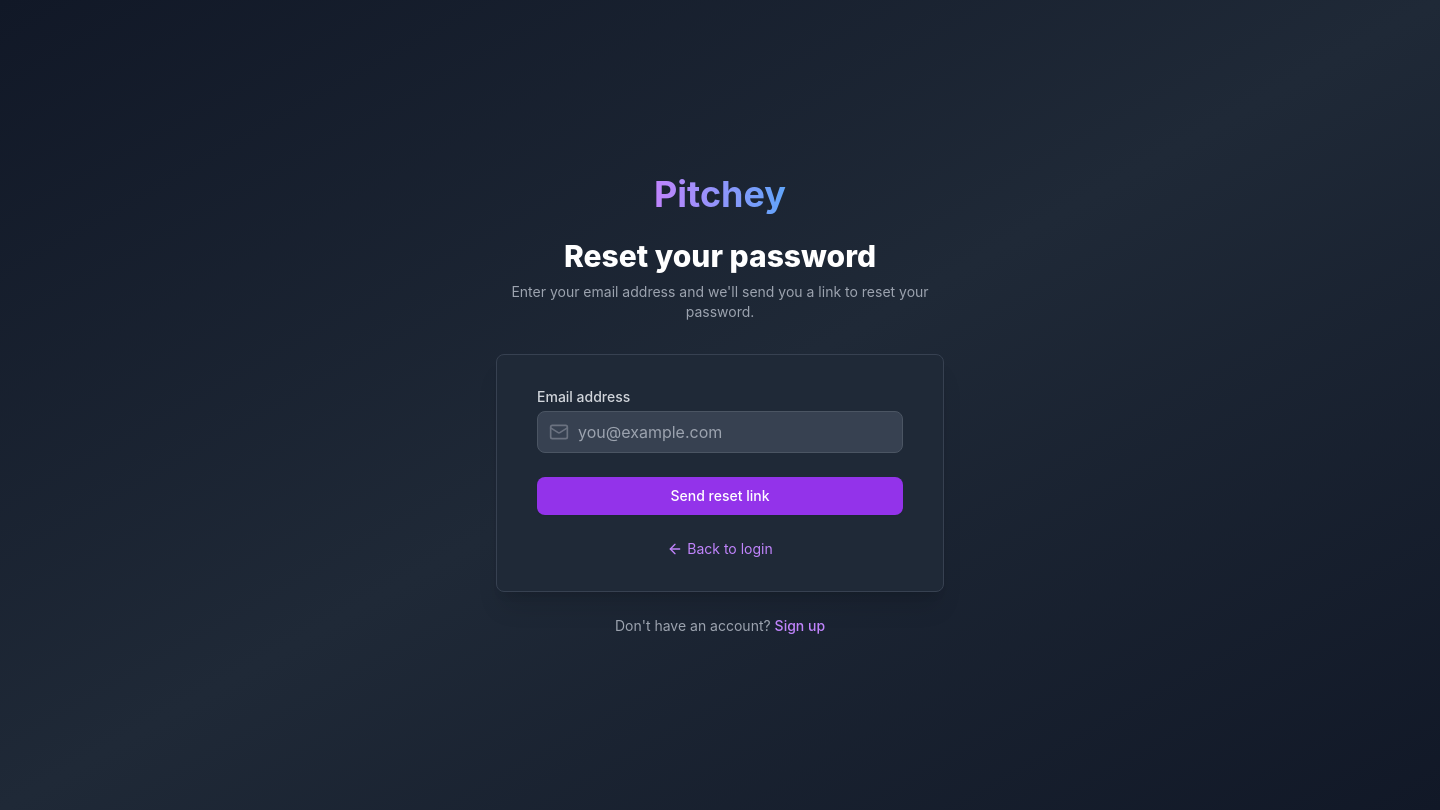
Scenario: ForgotPassword › returns to form when Try another email is clicked
This screenshot has width=1440, height=810.
Type "forgot@test.com" into the field labelled "Email address".
click(720, 432); type("forgot@test.com")  # box x1=537 y1=411 x2=903 y2=453
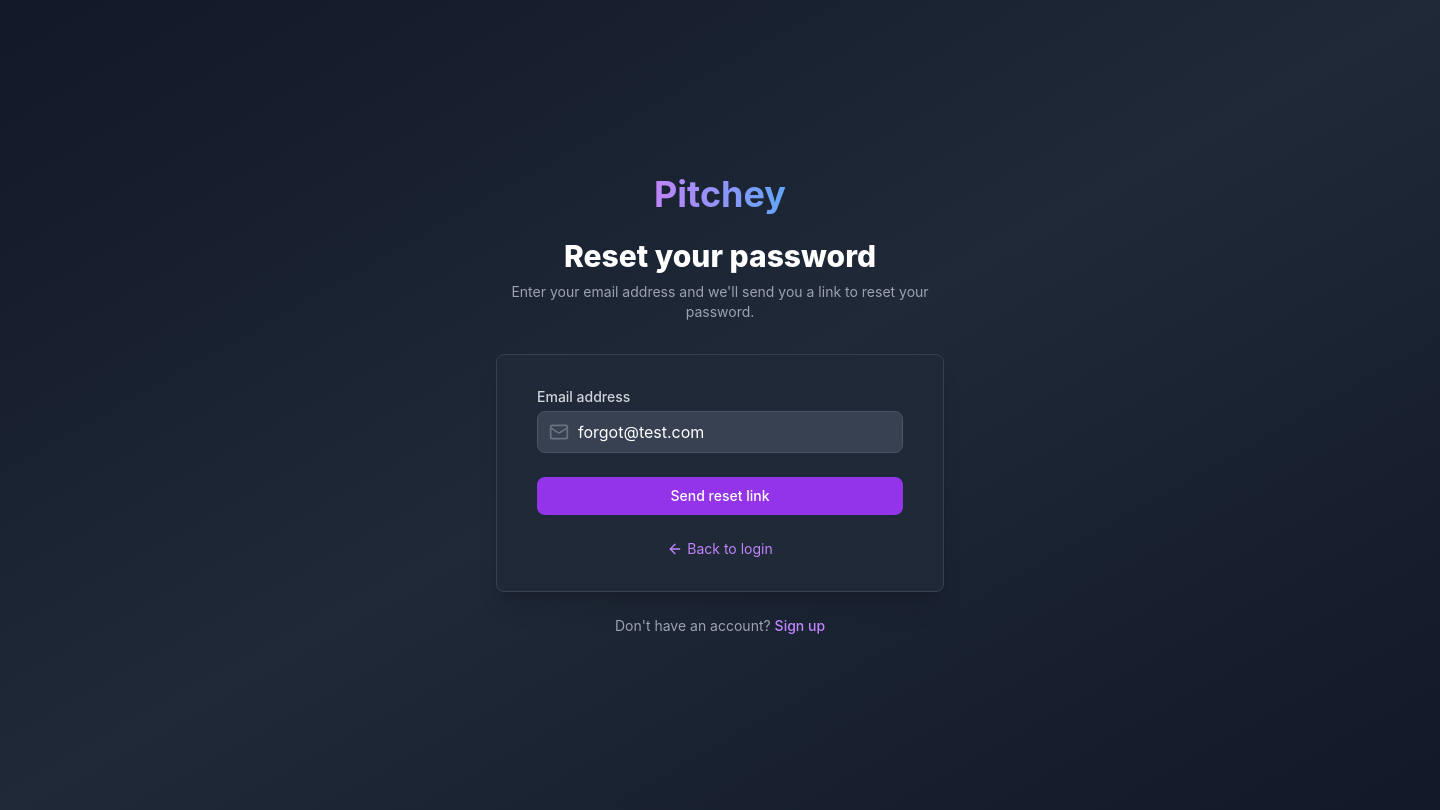
Click the button "Send reset link".
click(720, 496)  # box x1=537 y1=477 x2=903 y2=515
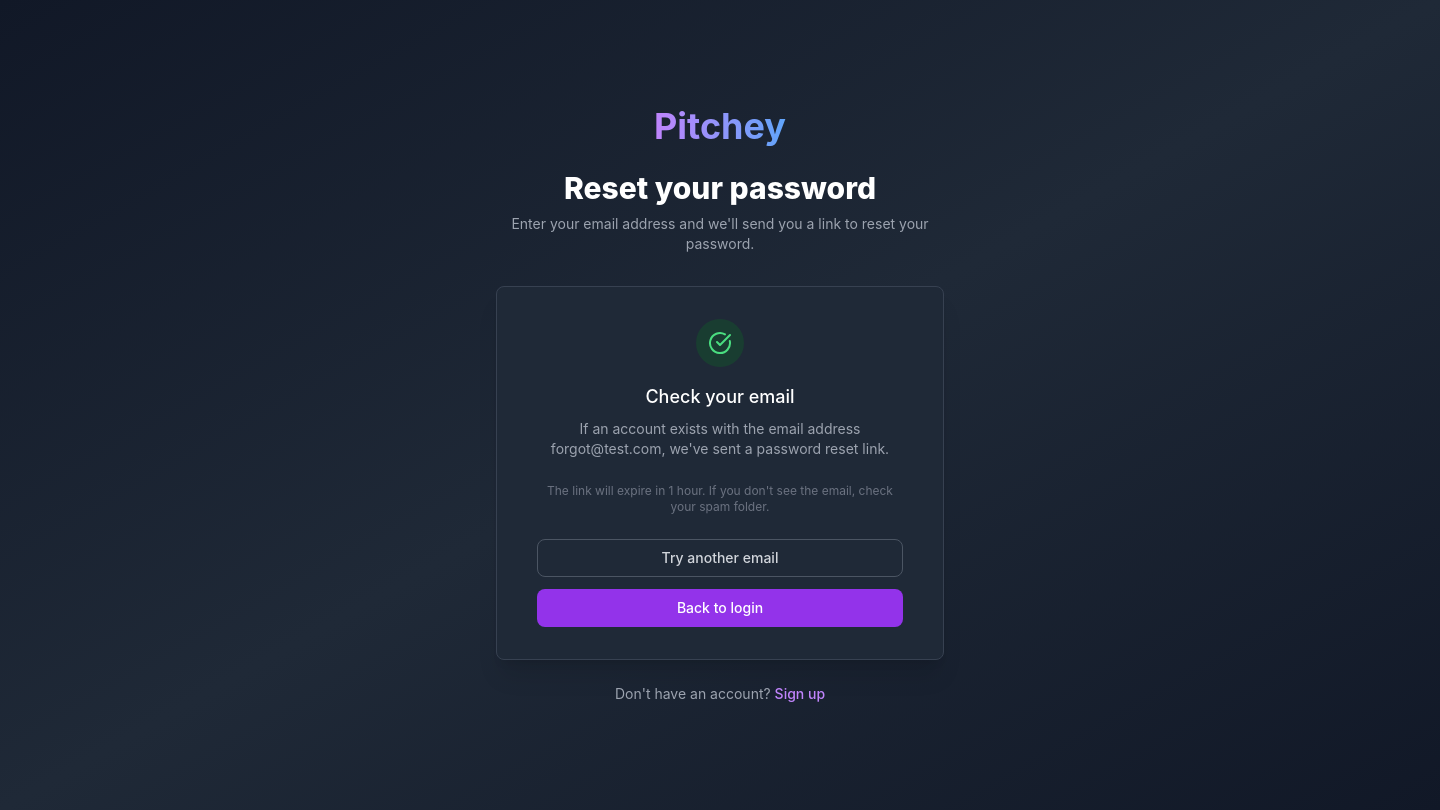
Expected: the button "Try another email" is shown
Click the button "Try another email".
click(720, 558)  # box x1=537 y1=539 x2=903 y2=577
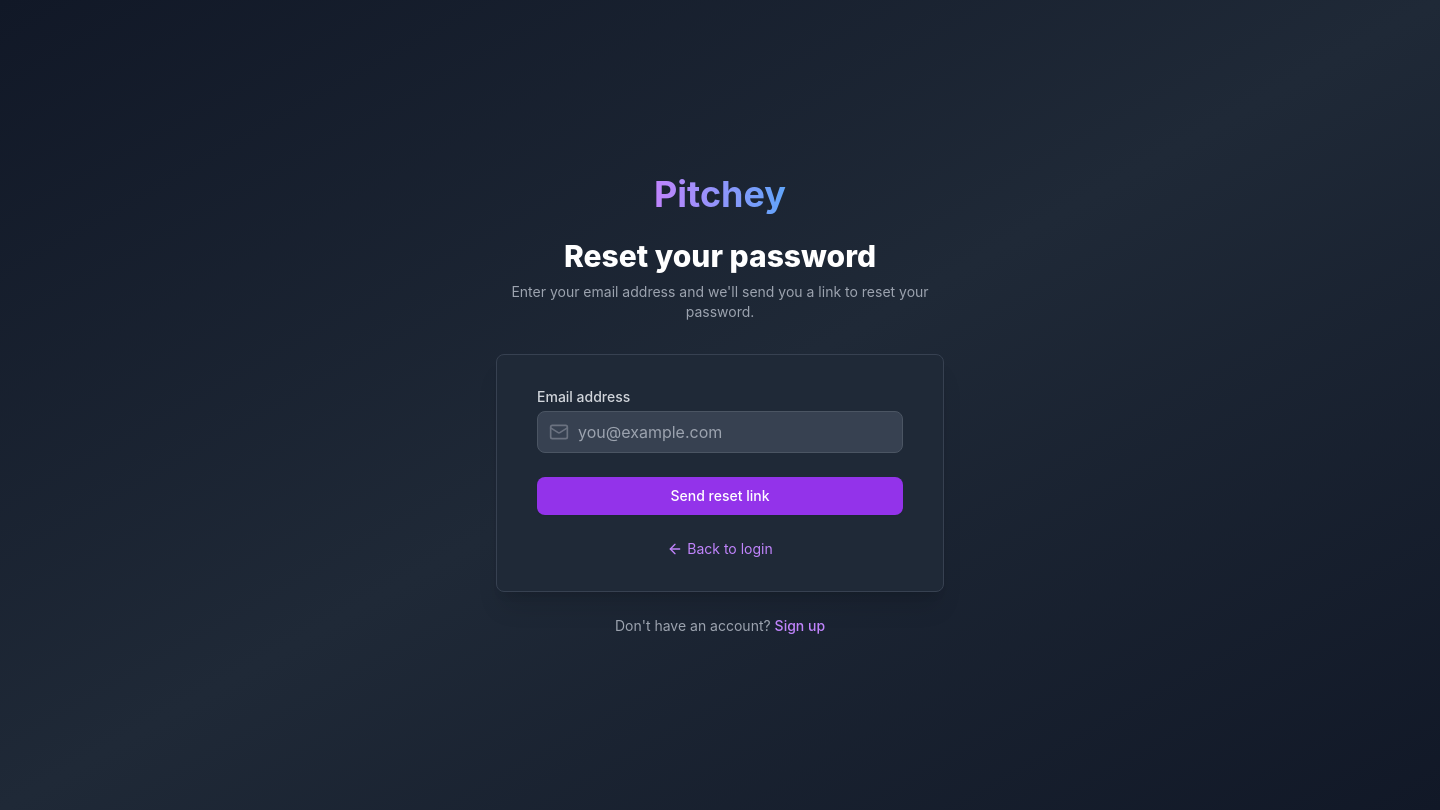
Expected: the field labelled "Email address" is shown, x1=537 y1=411 x2=903 y2=453
